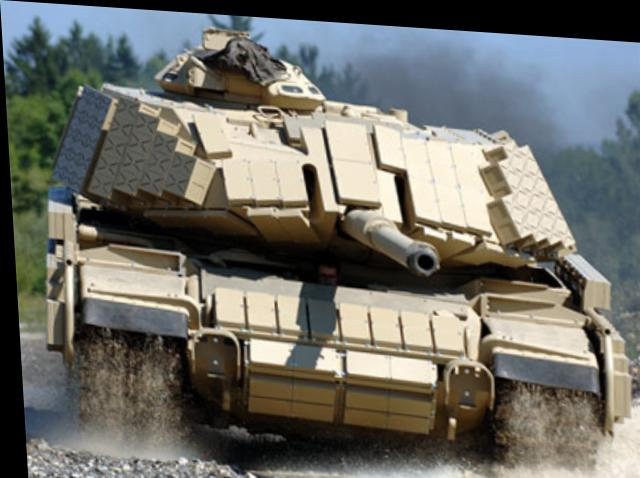tank: (46, 91, 580, 446)
